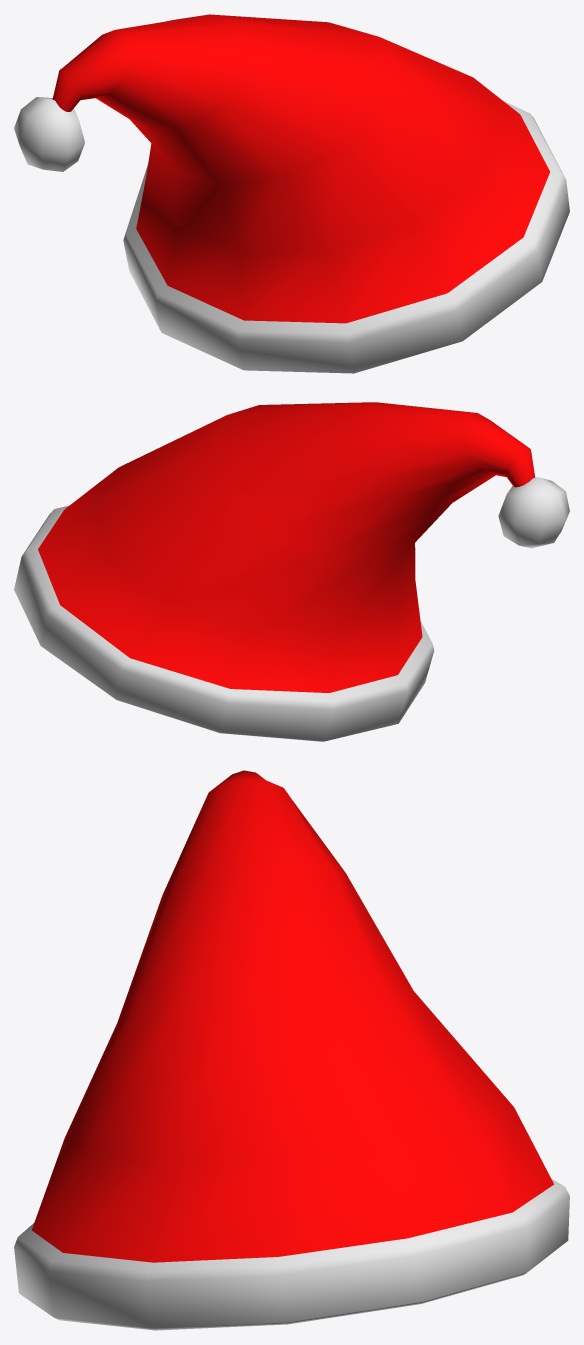
Rendered from christmas_basic.glb.
The picture shows the model from 3 angles, top to bottom: view 1: azimuth 30°, elevation 25°; view 2: azimuth 150°, elevation 25°; view 3: azimuth 270°, elevation 25°; orthographic projection. The views are drawn at different scales.
Parts seen in each view (by area): view 1: 1.032, 0.041; view 2: 1.032, 0.041; view 3: 1.032, 0.041.
Part boxes in pixels (box(x1,y1,x2,y2)): 1.032: box(52, 14, 549, 323); 0.041: box(14, 97, 569, 373); 1.032: box(38, 402, 535, 692); 0.041: box(14, 477, 569, 741); 1.032: box(32, 770, 553, 1262); 0.041: box(14, 1179, 569, 1330).
Size of the model in its own units: 0.5956 by 0.3522 by 0.4379.
